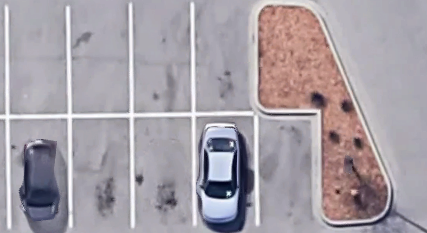Occupied: (193, 114, 258, 225), (6, 116, 70, 227)
Vacant: (6, 4, 70, 116), (68, 4, 132, 115), (132, 115, 195, 226), (70, 116, 132, 228), (130, 4, 193, 114), (257, 115, 317, 225), (192, 4, 252, 113)
